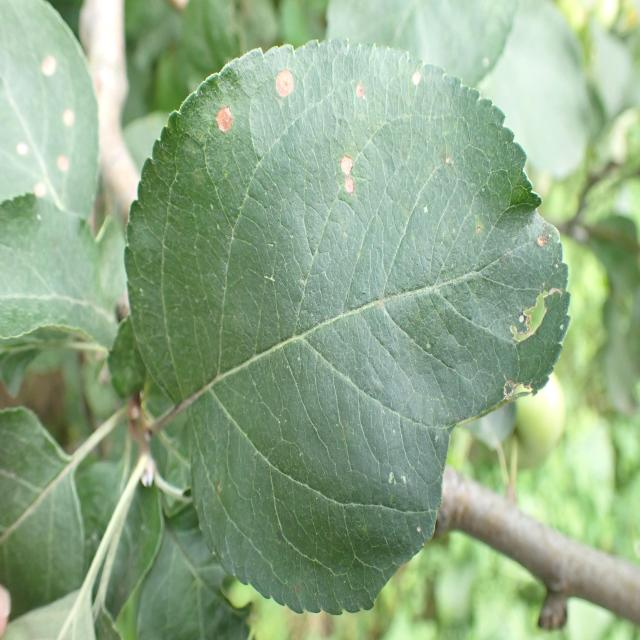Black Rot: (509, 272, 565, 361), (488, 365, 544, 424), (330, 144, 364, 208), (208, 94, 245, 151), (268, 52, 299, 111), (400, 56, 434, 98), (354, 74, 375, 124)
